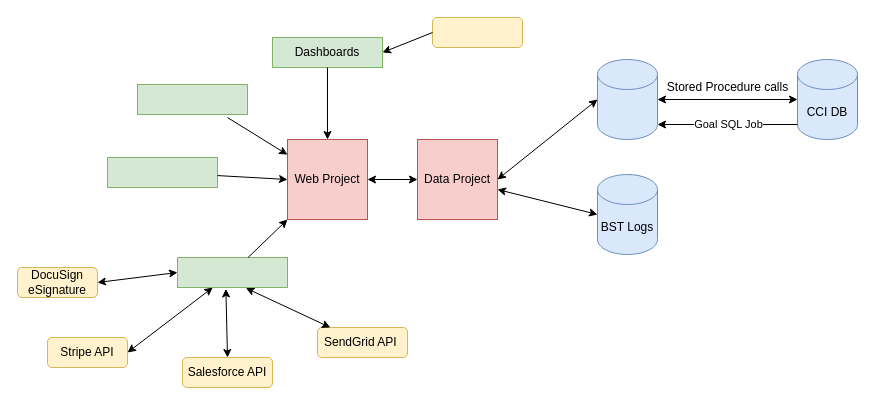
Image size: 875x405. Some labels were removed from this diagram. Each missing label, with the centre of its shape:
"Administration" belongs at [192,99].
"BST DB" belongs at [627,99].
"DevExpress Charts" belongs at [477,32].
"Logs" belongs at [162,172].
"Registration" belongs at [232,272].
